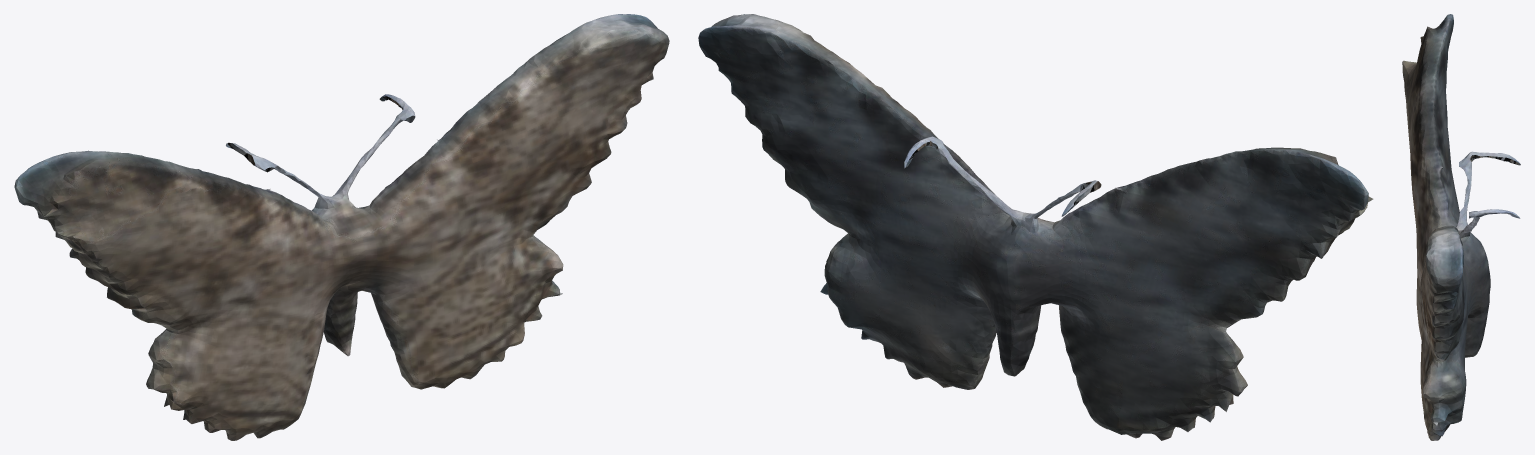
3 renders of one model, left to right at view 1: azimuth 30°, elevation 25°; view 2: azimuth 150°, elevation 25°; view 3: azimuth 270°, elevation 25°, orthographic. The views are drawn at different scales.
Parts seen in each view (by area): view 1: Mesh_0.001; view 2: Mesh_0.001; view 3: Mesh_0.001.
Part boxes in pixels (x1=…): Mesh_0.001: x1=14, y1=14, x2=669, y2=440; Mesh_0.001: x1=698, y1=14, x2=1373, y2=440; Mesh_0.001: x1=1402, y1=14, x2=1520, y2=440.
Bounding box in the file's own units: 0.3011 × 0.1443 × 0.0585.
Materials: 1 (1 with a texture image).
